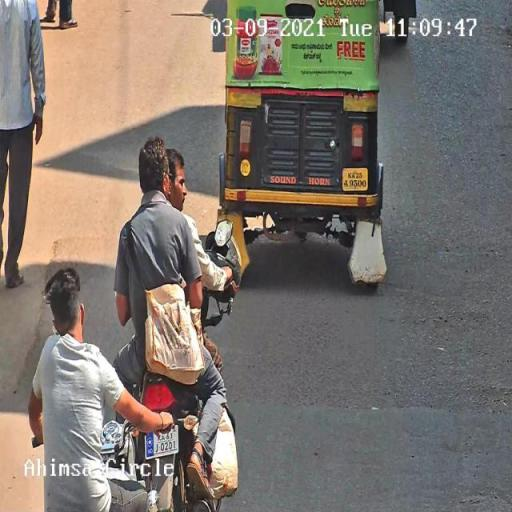using mobile: (48, 321, 64, 339)
